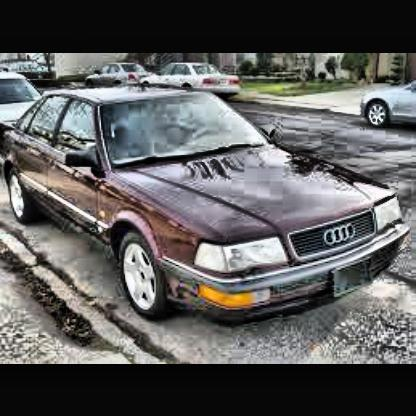Audi V8 Sedan 1994: (8, 84, 411, 329)
